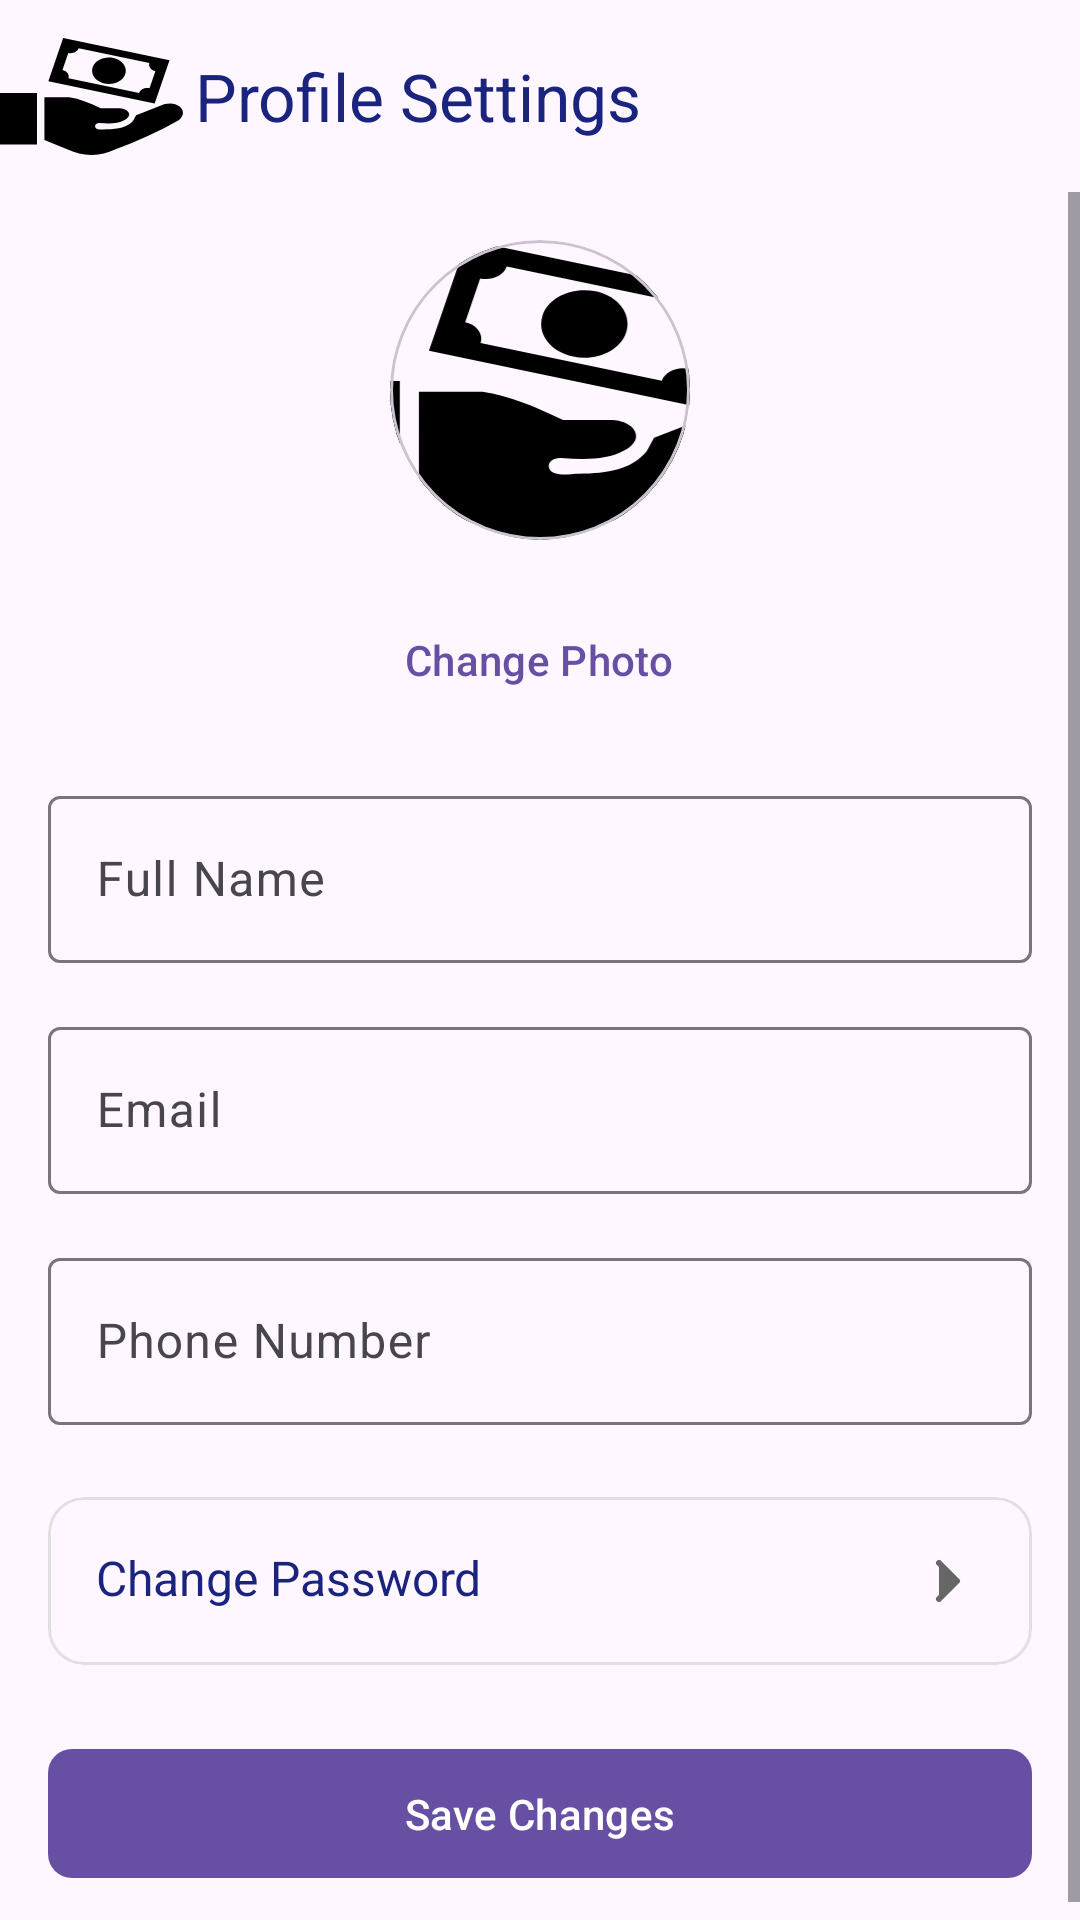

Point at icon controls on the screen. Image size 1080 x 1920, points as (x,y).
chevron right: (948,1581)
